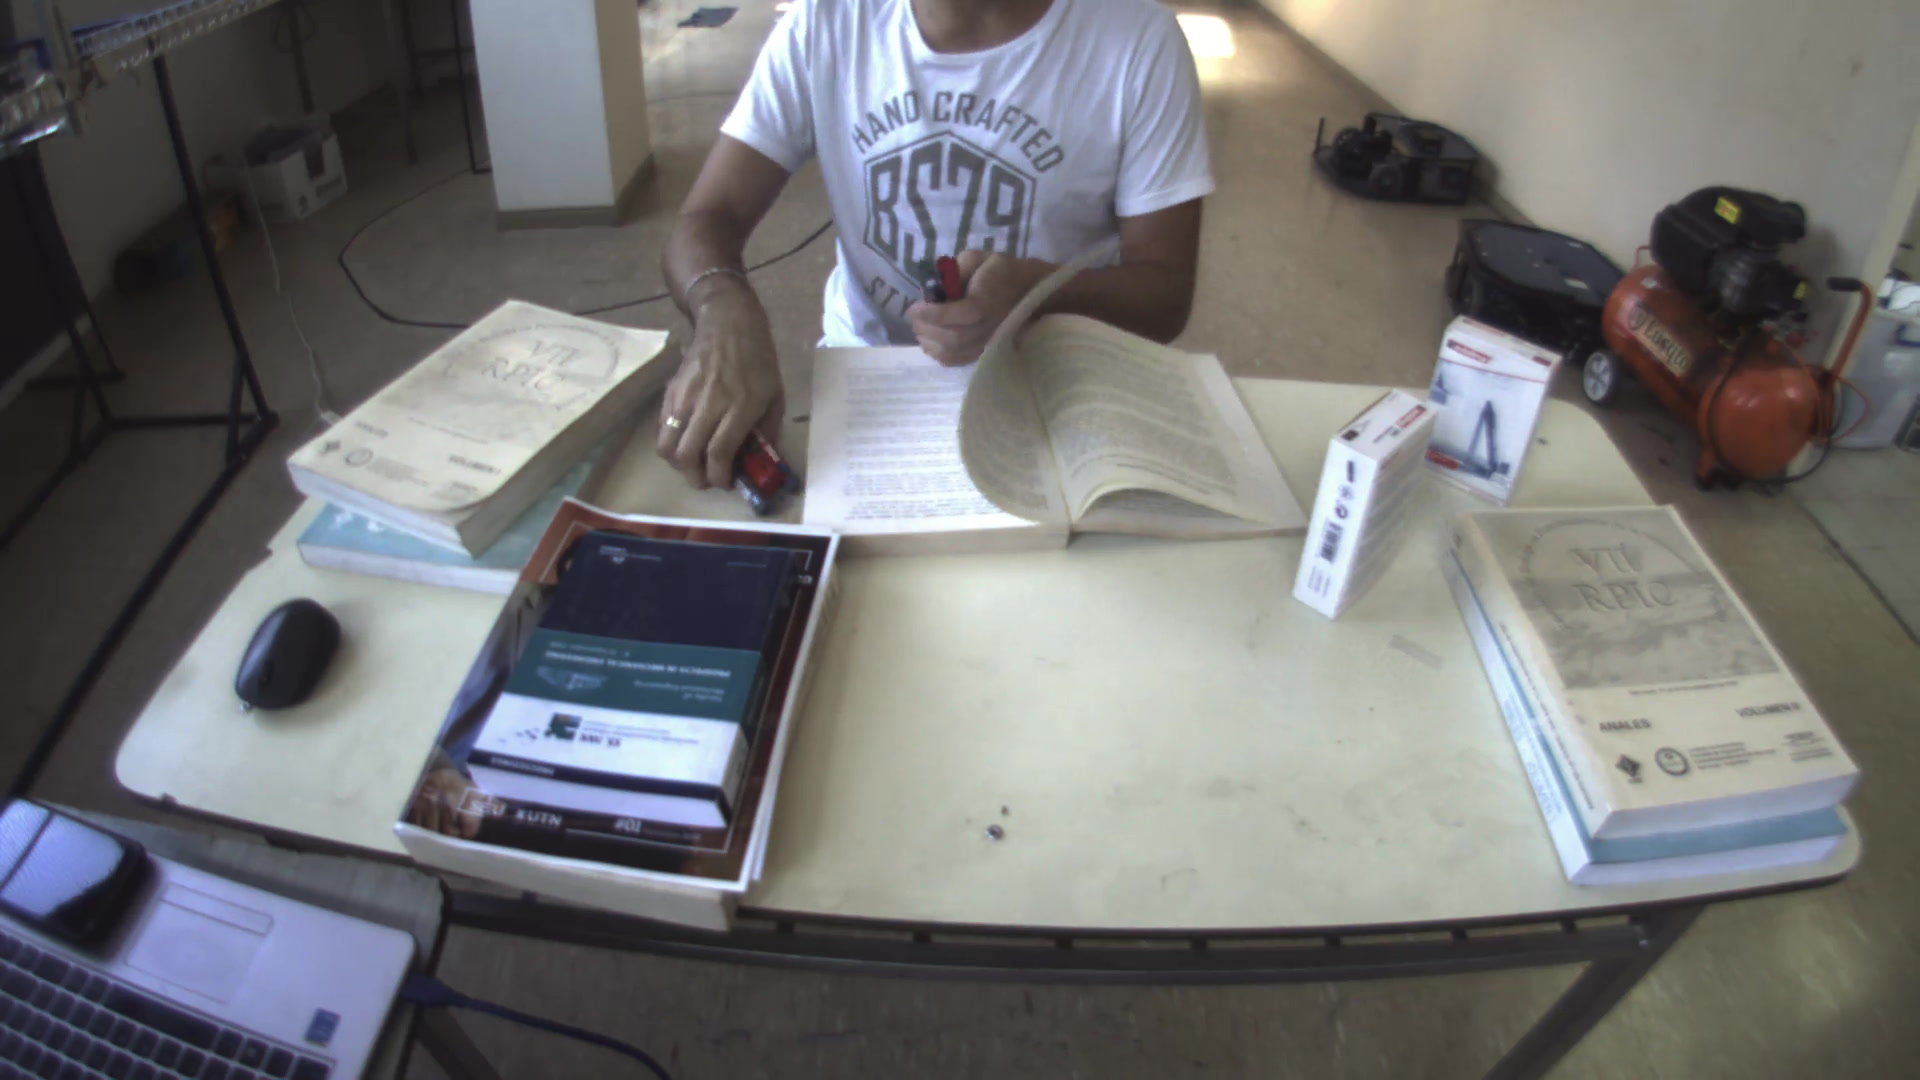hand: (637, 302, 794, 484), (884, 243, 1081, 368)
